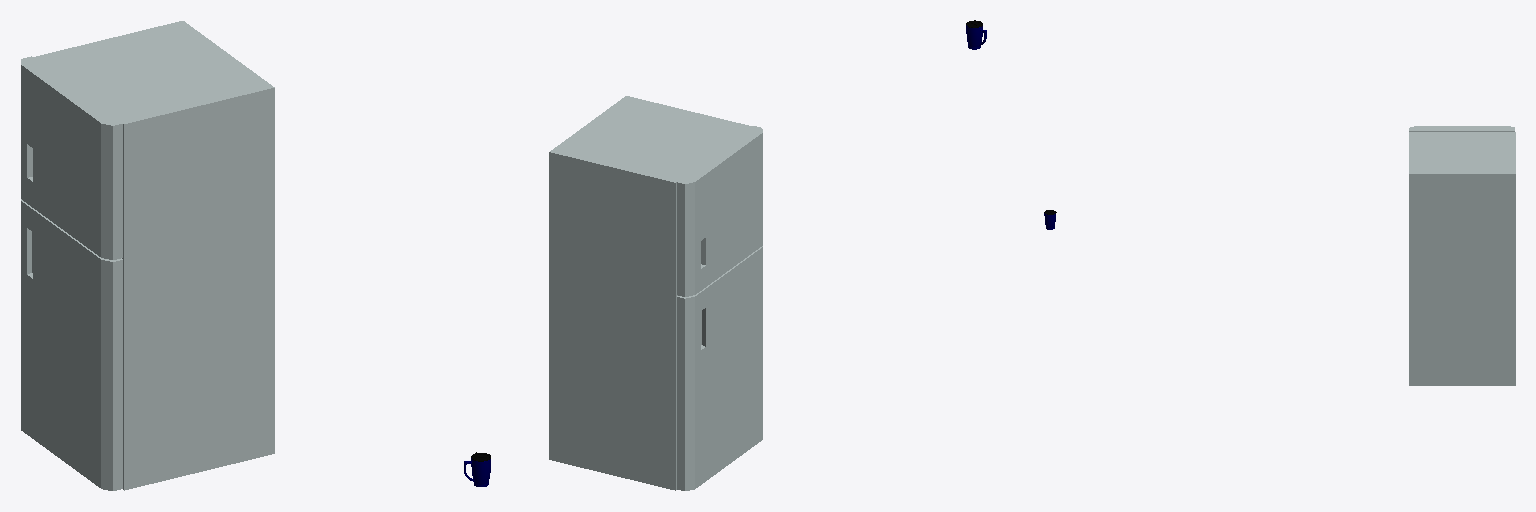
URDF robot description (Kitchen_standard):
<?xml version="1.0"?>
<!-- created with Phobos 1.0.1 "Capricious Choutengan" -->
  <robot name="Kitchen_standard">

    <link name="base_link">
      <inertial>
        <origin xyz="0 0 0" rpy="0 0 0"/>
        <mass value="0.2"/>
        <inertia ixx="0.001" ixy="0" ixz="0" iyy="0.001" iyz="0" izz="0.001"/>
      </inertial>
      <visual name="mug_base">
        <origin xyz="0 0 0" rpy="0 0 0"/>
        <geometry>
          <mesh filename="package://Kitchen_standard/meshes/dae/Group1/mesh6/mesh6-geometry#mesh6-geometry.dae" scale="1.0 1.0 1.0"/>
        </geometry>
        <material name="material_0_0.001"/>
      </visual>
      <collision name="mug_base.col">
        <origin xyz="0 0 0" rpy="0 0 0"/>
        <geometry>
          <mesh filename="package://Kitchen_standard/meshes/dae/Group1/mesh6/mesh6-geometry#mesh6-geometry.001.dae" scale="1.0 1.0 1.0"/>
        </geometry>
      </collision>
    </link>

    <link name="lid_link">
      <inertial>
        <origin xyz="0 0 0" rpy="0 0 0"/>
        <mass value="0.001"/>
        <inertia ixx="0.001" ixy="0" ixz="0" iyy="0.001" iyz="0" izz="0.001"/>
      </inertial>
      <visual name="mug_lid">
        <origin xyz="-0.00559 -0.00117 0" rpy="0 0 0"/>
        <geometry>
          <mesh filename="package://Kitchen_standard/meshes/dae/Union1/mesh32/mesh32-geometry#mesh32-geometry.dae" scale="1.0 1.0 1.0"/>
        </geometry>
        <material name="material_0_0.005"/>
      </visual>
      <collision name="mug_lid.col">
        <origin xyz="-0.00559 -0.00117 0" rpy="0 0 0"/>
        <geometry>
          <mesh filename="package://Kitchen_standard/meshes/dae/Union1/mesh32/mesh32-geometry#mesh32-geometry.001.dae" scale="1.0 1.0 1.0"/>
        </geometry>
      </collision>
    </link>

    <link name="mug1_root">
      <inertial>
        <origin xyz="0 0 0" rpy="0 0 0"/>
        <mass value="0.001"/>
        <inertia ixx="0.001" ixy="0" ixz="0" iyy="0.001" iyz="0" izz="0.001"/>
      </inertial>
    </link>

    <link name="refridge_door1">
      <inertial>
        <origin xyz="0 0 0" rpy="0 0 0"/>
        <mass value="0.001"/>
        <inertia ixx="0.001" ixy="0" ixz="0" iyy="0.001" iyz="0" izz="0.001"/>
      </inertial>
      <visual name="Plane">
        <origin xyz="0.01807 0.38291 0" rpy="0 0 0"/>
        <geometry>
          <mesh filename="package://Kitchen_standard/meshes/dae/Plane.dae" scale="0.02785 0.43052 0.43052"/>
        </geometry>
        <material name="refridge_mat"/>
      </visual>
      <collision name="Plane.000">
        <origin xyz="0.01807 0.38291 0" rpy="0 0 0"/>
        <geometry>
          <mesh filename="package://Kitchen_standard/meshes/dae/Plane.002.dae" scale="1.0 1.0 1.0"/>
        </geometry>
      </collision>
    </link>

    <link name="refridge_door2">
      <inertial>
        <origin xyz="0 0 0" rpy="0 0 0"/>
        <mass value="0.001"/>
        <inertia ixx="0.001" ixy="0" ixz="0" iyy="0.001" iyz="0" izz="0.001"/>
      </inertial>
      <visual name="Plane.001">
        <origin xyz="0.01727 0.38288 0" rpy="0 0 0"/>
        <geometry>
          <mesh filename="package://Kitchen_standard/meshes/dae/Plane.001.dae" scale="0.02785 0.43052 0.43052"/>
        </geometry>
        <material name="refridge_mat"/>
      </visual>
      <collision name="Plane.001.000">
        <origin xyz="0.01727 0.38288 0" rpy="0 0 0"/>
        <geometry>
          <mesh filename="package://Kitchen_standard/meshes/dae/Plane.003.dae" scale="1.0 1.0 1.0"/>
        </geometry>
      </collision>
    </link>

    <link name="refridge_root">
      <inertial>
        <origin xyz="0 0 0" rpy="0 0 0"/>
        <mass value="120.0"/>
        <inertia ixx="0.001" ixy="0" ixz="0" iyy="0.001" iyz="0" izz="0.001"/>
      </inertial>
      <visual name="Cube">
        <origin xyz="0 0 0" rpy="0 0 3.14159"/>
        <geometry>
          <mesh filename="package://Kitchen_standard/meshes/dae/Cube.050.dae" scale="1.0 1.0 1.0"/>
        </geometry>
        <material name="refridge_mat"/>
      </visual>
      <collision name="Cube.000">
        <origin xyz="0 0 0" rpy="0 0 3.14159"/>
        <geometry>
          <mesh filename="package://Kitchen_standard/meshes/dae/Cube.052.dae" scale="1.0 1.0 1.0"/>
        </geometry>
      </collision>
    </link>

    <link name="root_standard">
      <inertial>
        <origin xyz="0 0 0" rpy="0 0 0"/>
        <mass value="0.001"/>
        <inertia ixx="0.001" ixy="0" ixz="0" iyy="0.001" iyz="0" izz="0.001"/>
      </inertial>
    </link>

    <joint name="joint_0" type="fixed">
      <origin xyz="0.00559 0.00117 0" rpy="0 0 0"/>
      <parent link="base_link"/>
      <child link="lid_link"/>
    </joint>

    <joint name="joint_1" type="fixed">
      <origin xyz="0 0 0" rpy="0 0 0"/>
      <parent link="mug1_root"/>
      <child link="base_link"/>
    </joint>

    <joint name="mug1_root" type="fixed">
      <origin xyz="0.90549 -0.43287 0.282" rpy="0 0 0"/>
      <parent link="root_standard"/>
      <child link="mug1_root"/>
    </joint>

    <joint name="refridge_door1" type="revolute">
      <origin xyz="0.39089 0.38707 -0.83983" rpy="0 0 3.14159"/>
      <parent link="refridge_root"/>
      <child link="refridge_door1"/>
      <axis xyz="0 0 1.0"/>
      <limit lower="0" upper="3.0" effort="0" velocity="0"/>
    </joint>

    <joint name="refridge_door2" type="revolute">
      <origin xyz="0.3901 0.38705 0.35533" rpy="0 0 3.14159"/>
      <parent link="refridge_root"/>
      <child link="refridge_door2"/>
      <axis xyz="0 0 1.0"/>
      <limit lower="0" upper="3.0" effort="0" velocity="0"/>
    </joint>

    <joint name="refridge_root" type="floating">
      <origin xyz="0.99853 2.9037 -0.09375" rpy="0 0 -3.14159"/>
      <parent link="root_standard"/>
      <child link="refridge_root"/>
    </joint>

    <material name="material_0_0.001">
      <color rgba="0 0 0.4 1.0"/>
    </material>

    <material name="material_0_0.005">
      <color rgba="0.04706 0.04706 0.04706 1.0"/>
    </material>

    <material name="refridge_mat">
      <color rgba="0.74096 0.7879 0.7879 1.0"/>
    </material>

  </robot>

--- What the picture shows (computed from the rendered views, not written in the file) ---
The picture shows the robot from 3 angles, left to right: view 1: azimuth 30°, elevation 25°; view 2: azimuth 150°, elevation 25°; view 3: azimuth 270°, elevation 25°; orthographic projection.
Model Kitchen_standard with 7 links and 6 joints (2 revolute, 3 fixed, 1 floating), rooted at root_standard, posed all joints at 0.
Links seen in each view (by area): view 1: refridge_root, refridge_door1, refridge_door2, base_link; view 2: refridge_root, refridge_door1, refridge_door2; view 3: refridge_root, refridge_door2.
Link boxes in pixels (bbox=[...]): refridge_root: bbox=[33, 21, 274, 490]; refridge_door1: bbox=[21, 199, 122, 490]; refridge_door2: bbox=[21, 56, 122, 259]; base_link: bbox=[464, 458, 490, 486]; refridge_root: bbox=[549, 96, 752, 490]; refridge_door1: bbox=[677, 246, 762, 490]; refridge_door2: bbox=[677, 126, 762, 296]; refridge_root: bbox=[1409, 132, 1515, 385]; refridge_door2: bbox=[1409, 126, 1514, 131].
Size in the robot's own frame: 0.9094 by 3.82 by 1.9 metres.
Meshes: 5 distinct files referenced, 5 mesh visuals loaded (5 Collada DAE).